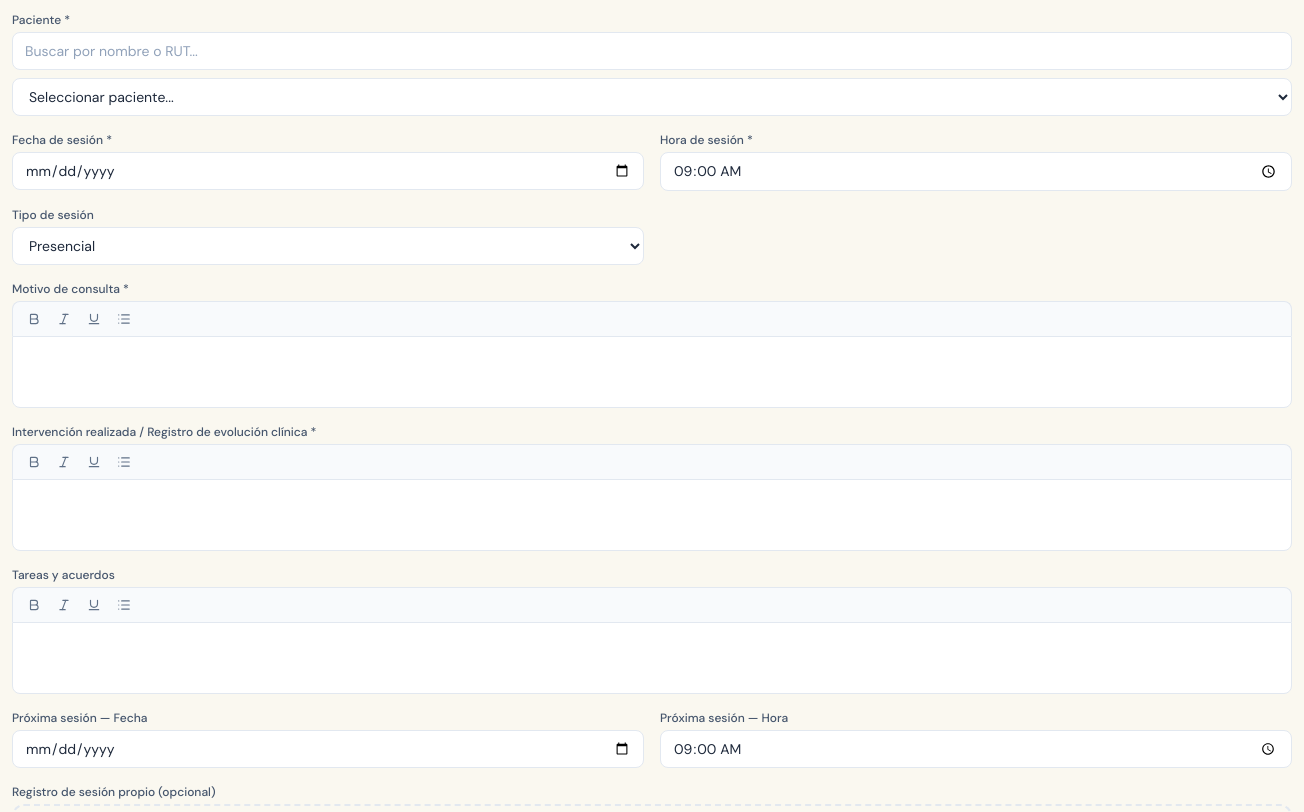
ConsultationForm — búsqueda de pacientes en el servidor (#290) › panel de resultados › Enter elige la primera coincidencia sin enviar el formulario
Type "Otra" into the search field named "buscar paciente" at (652, 51), box [12,32,1292,70]
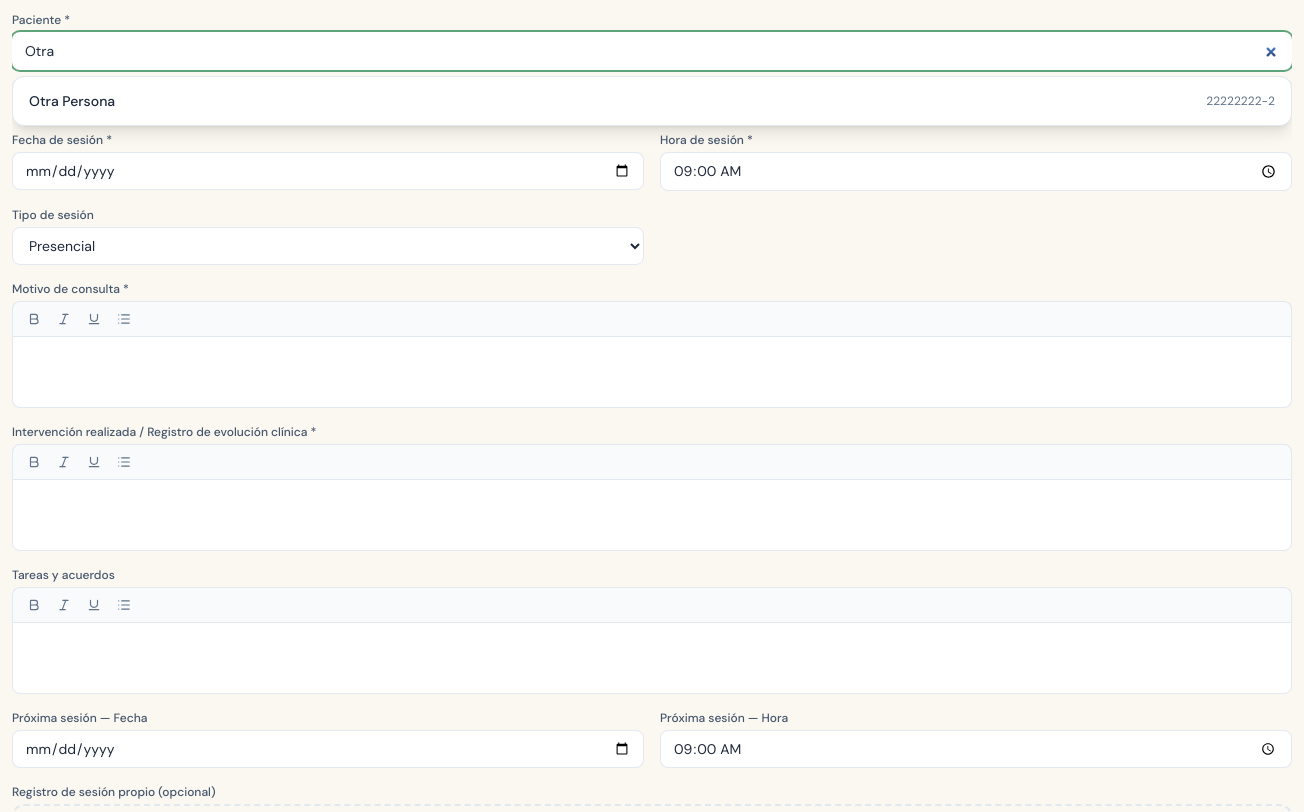
Expected: the number of options is 1, [17,81,1287,121]
Los resultados se asientan cuando la búsqueda se acota a una sola fila.
Press Enter
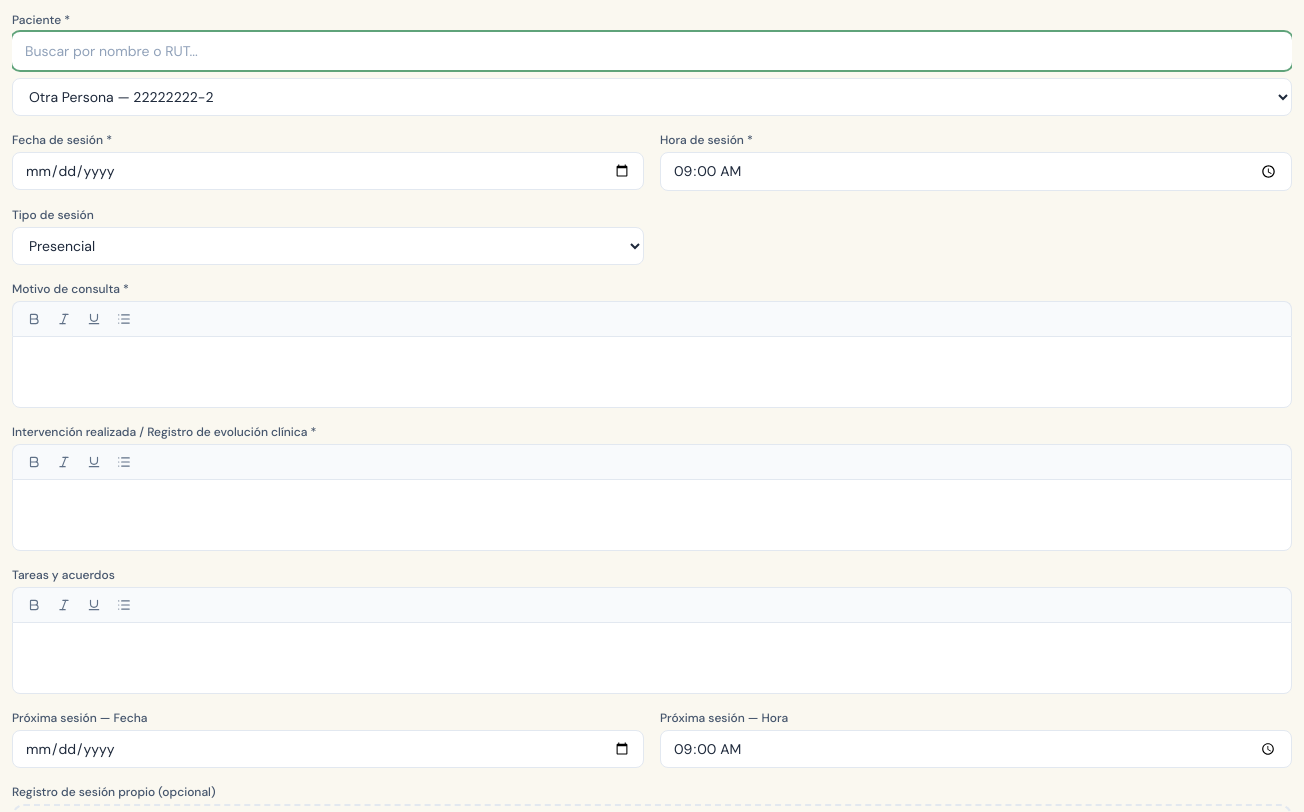
Expected: the dropdown labelled "Paciente *" shows "Otra Persona — 22222222-2", [12,78,1292,116]
